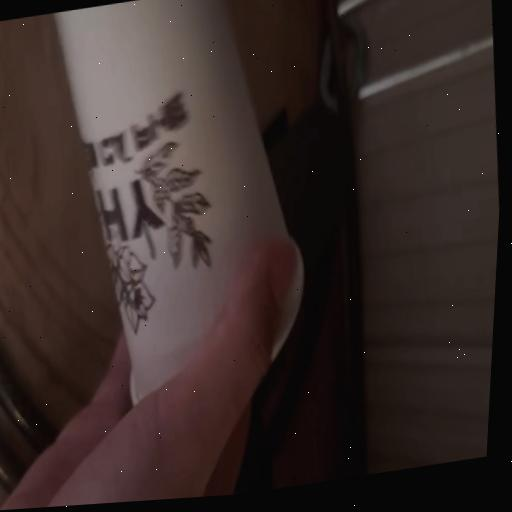Ly_giay: (54, 0, 287, 404)
